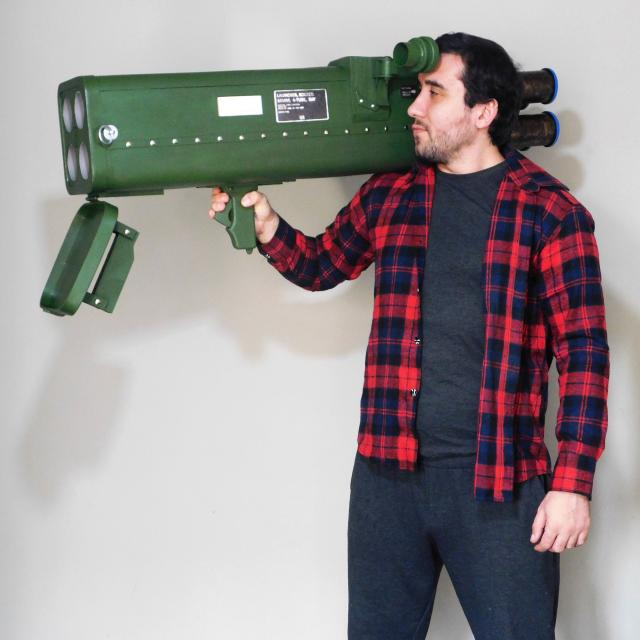bazooka: (30, 32, 594, 325)
